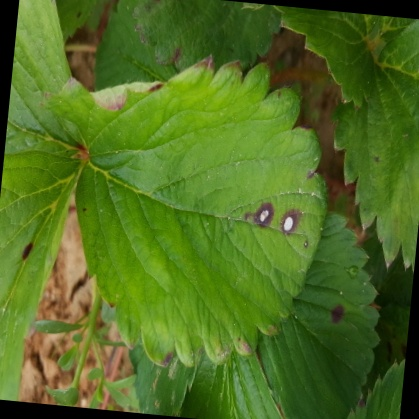Leaf_Spot: (75, 54, 328, 372), (269, 201, 391, 418), (321, 0, 418, 255), (0, 162, 86, 418), (0, 0, 87, 176), (113, 0, 264, 77), (364, 341, 418, 418), (33, 0, 91, 50)
